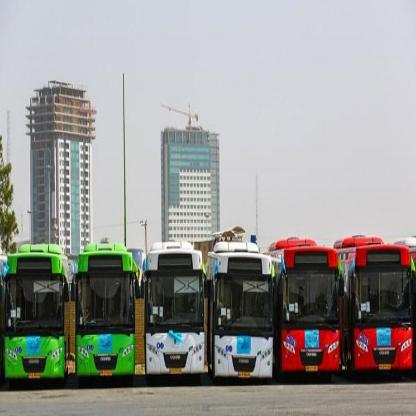Bus: (345, 234, 416, 378), (3, 240, 68, 390), (210, 233, 277, 377), (278, 230, 341, 377), (72, 243, 138, 378), (146, 236, 206, 377)
